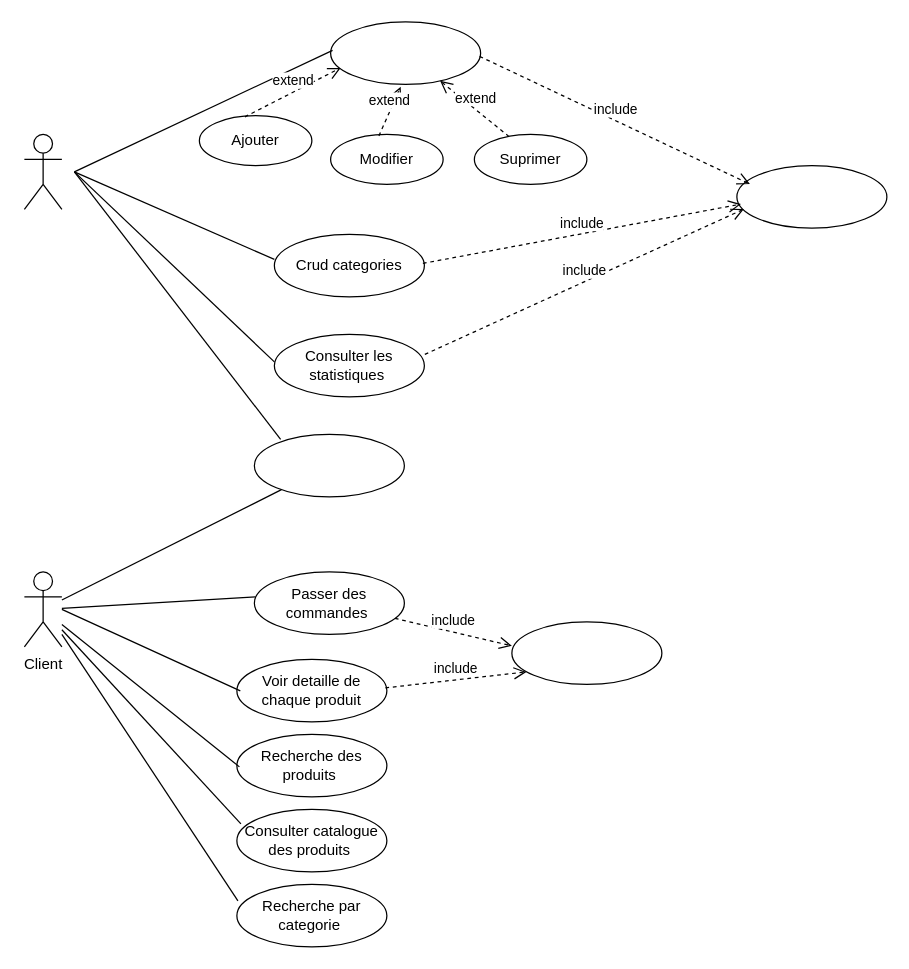
Some shapes in this 909 by 969 pixel diagram are drawn without their labels. The centre of each missing label's shape, as x and y in pixels:
Admin: the point at 42,171
Authantification: the point at 811,196
Authentification: the point at 586,652
Crud produit: the point at 405,52
Login: the point at 328,465
